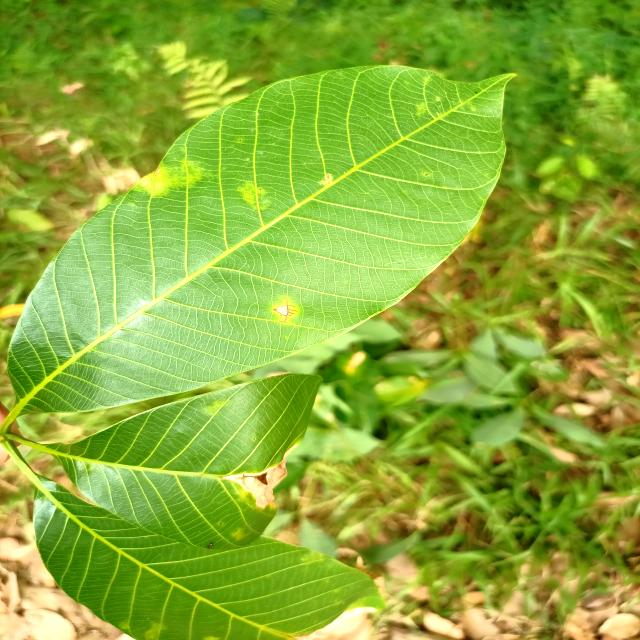Corynespora: (277, 297, 298, 324)
